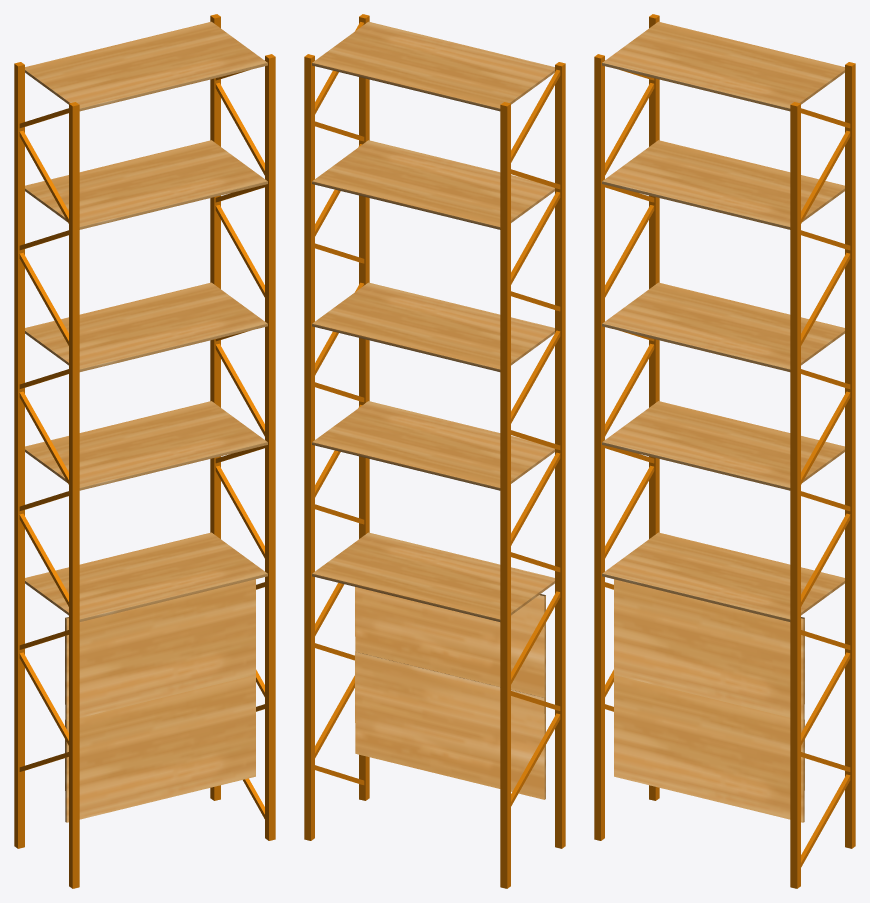
File: Industrial_Rack_09.fbx
3 renders of one model, left to right at view 1: azimuth 30°, elevation 25°; view 2: azimuth 150°, elevation 25°; view 3: azimuth 330°, elevation 25°, orthographic.
Parts seen in each view (by area): view 1: Industrial_Rack_09; view 2: Industrial_Rack_09; view 3: Industrial_Rack_09.
Boxes of the visible parts, x1=… form: Industrial_Rack_09: x1=14, y1=14, x2=275, y2=888; Industrial_Rack_09: x1=304, y1=14, x2=565, y2=888; Industrial_Rack_09: x1=594, y1=14, x2=855, y2=888.
Bounding box in the file's own units: 2 × 7.37 × 1.
